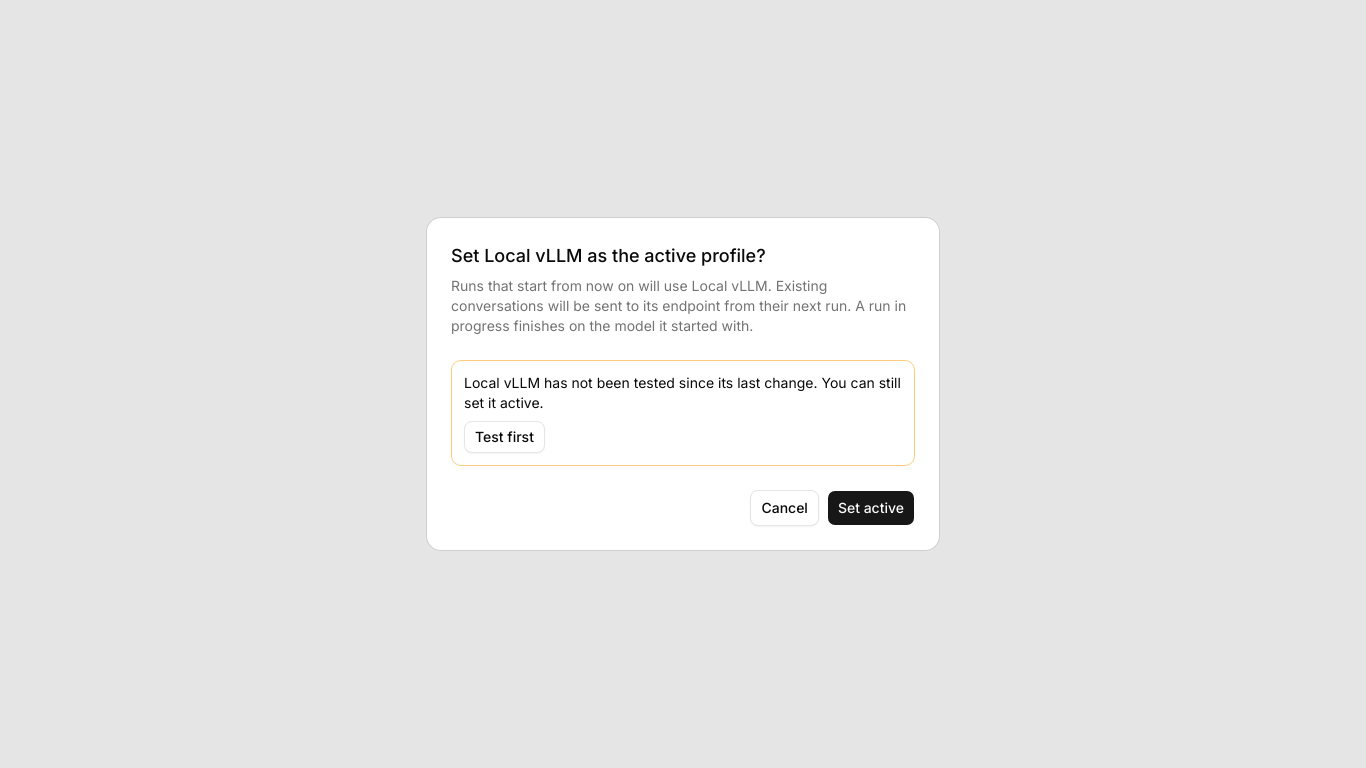
it: ActivateDialog, an untested profile › tests first when asked, and drops the warning once the test passes
This screenshot has width=1366, height=768.
Click the button "Test first".
click(504, 437)  # box x1=464 y1=421 x2=545 y2=453
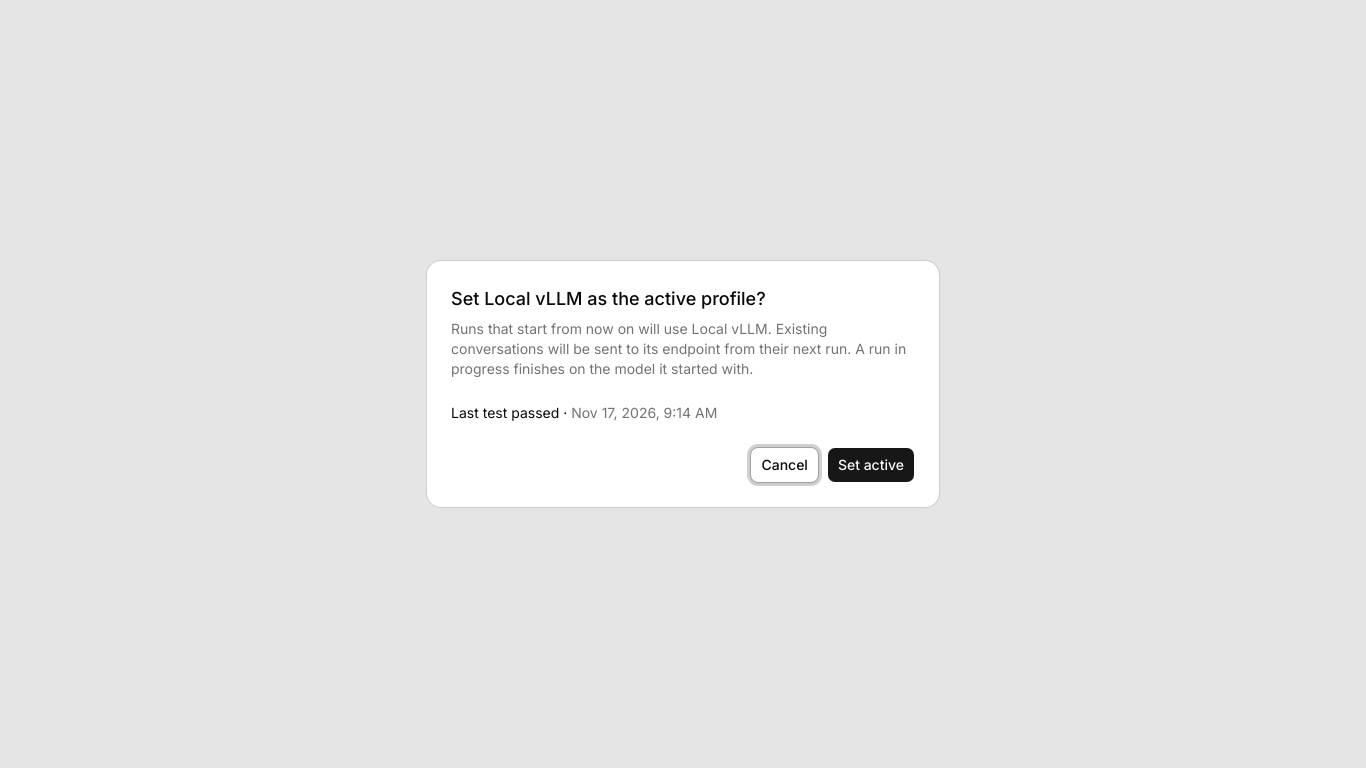
Check: the dialog is shown, box x1=427 y1=261 x2=939 y2=507
Check: the element showing "Last test passed · Nov 17, 2026, 9:14 AM" is shown, box x1=451 y1=404 x2=717 y2=421
